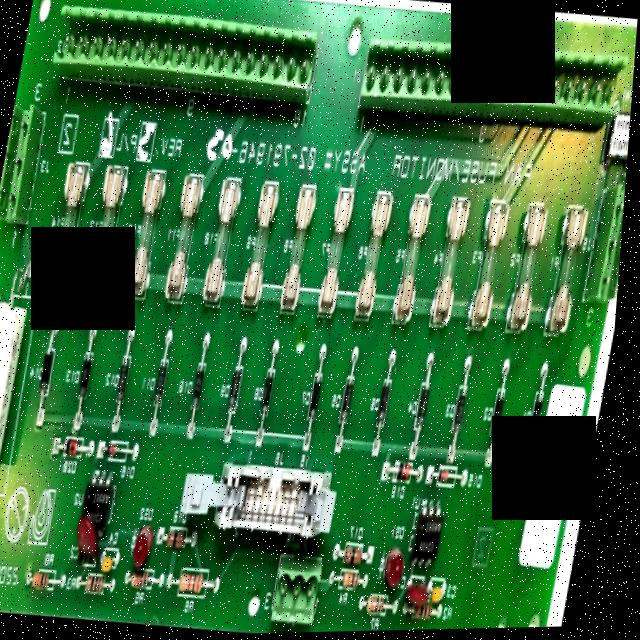2235: (604, 107, 633, 166)
IC: (415, 506, 456, 565), (85, 475, 127, 530)
LED: (136, 515, 165, 569), (387, 548, 417, 594)
capacitor 1V5: (75, 523, 113, 558), (412, 577, 439, 610), (107, 545, 126, 573), (435, 580, 454, 603)
connector -5v-: (352, 16, 633, 143), (47, 0, 321, 101), (188, 455, 347, 541), (0, 277, 38, 502), (585, 179, 629, 317), (0, 103, 45, 221), (273, 558, 335, 635)
diode -D1-: (528, 377, 553, 458), (490, 380, 515, 453), (413, 371, 437, 441), (190, 354, 215, 421), (453, 379, 476, 446), (259, 362, 282, 427), (37, 345, 60, 408), (116, 353, 138, 416), (340, 367, 361, 432), (78, 347, 99, 410), (227, 367, 251, 419), (308, 373, 330, 428), (346, 534, 378, 571), (155, 355, 177, 407), (379, 373, 401, 424), (65, 433, 93, 466), (169, 525, 193, 560), (102, 444, 133, 468), (438, 466, 464, 494), (396, 467, 425, 489)
fuse F1: (548, 198, 594, 338), (391, 193, 434, 338), (470, 203, 514, 341), (508, 203, 553, 329), (128, 165, 168, 306), (430, 199, 473, 328), (356, 192, 396, 327), (317, 186, 358, 316), (167, 172, 206, 308), (90, 163, 128, 297), (284, 181, 322, 311), (244, 180, 282, 309), (206, 179, 244, 308), (54, 168, 90, 283)
resistor IR1: (181, 566, 215, 608), (410, 604, 446, 632), (133, 566, 162, 598), (344, 564, 371, 598), (34, 569, 68, 591), (89, 574, 118, 599), (374, 594, 398, 620)
